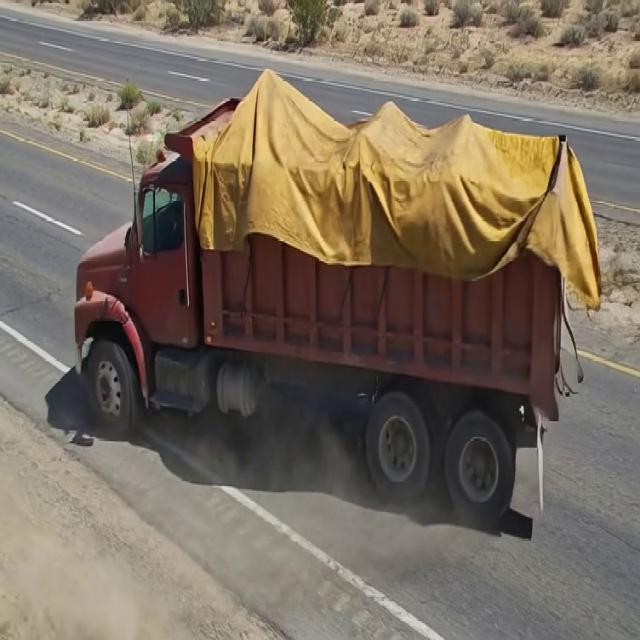trailer: (178, 95, 582, 243)
truck: (72, 67, 602, 490)
